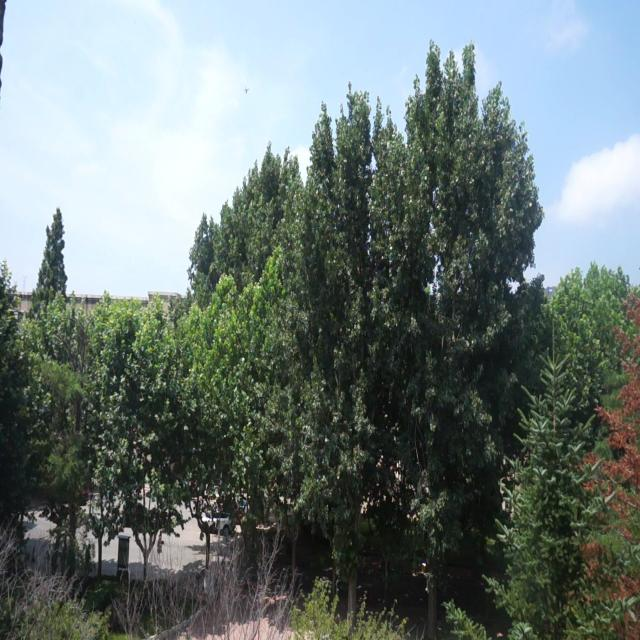drone: (241, 80, 250, 98)
